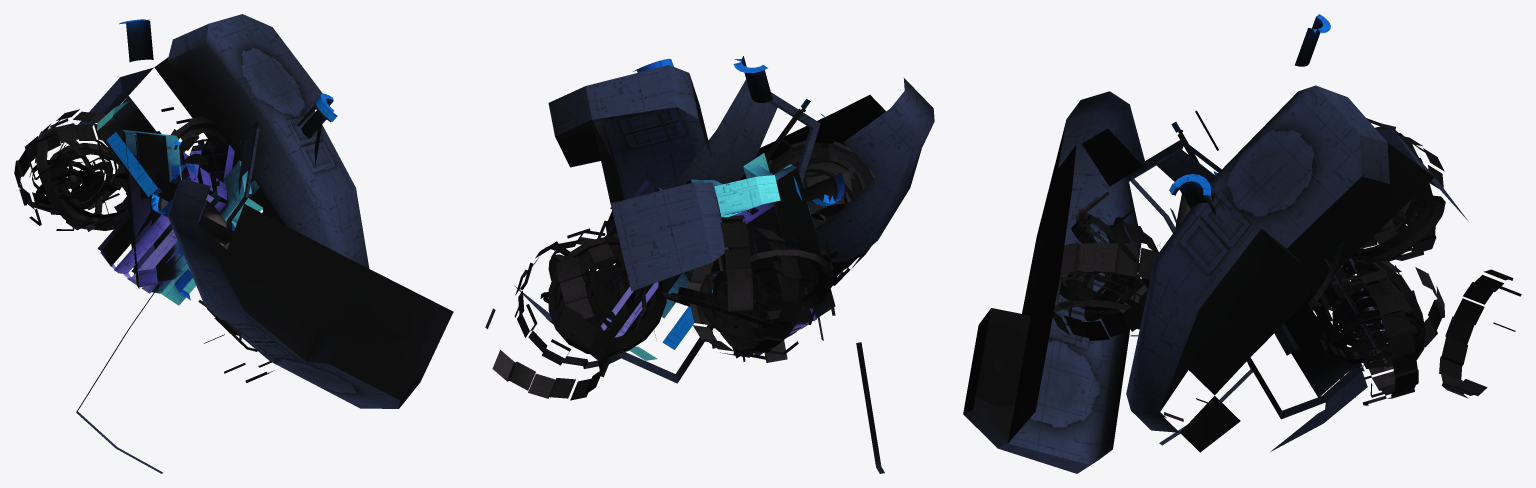
File: PlayerA_Die11.obj
3 renders of one model, left to right at view 1: azimuth 30°, elevation 25°; view 2: azimuth 150°, elevation 25°; view 3: azimuth 270°, elevation 25°, orthographic. The views are drawn at different scales.
Visible parts, largest first — view 1: Object001; view 2: Object001; view 3: Object001.
Boxes of the visible parts, <box> form: Object001: <box>14,14,453,473</box>; Object001: <box>485,56,934,473</box>; Object001: <box>963,14,1521,473</box>.
Size of the model in its own units: 121 by 154 by 174.
Materials: 1 (1 with a texture image).
